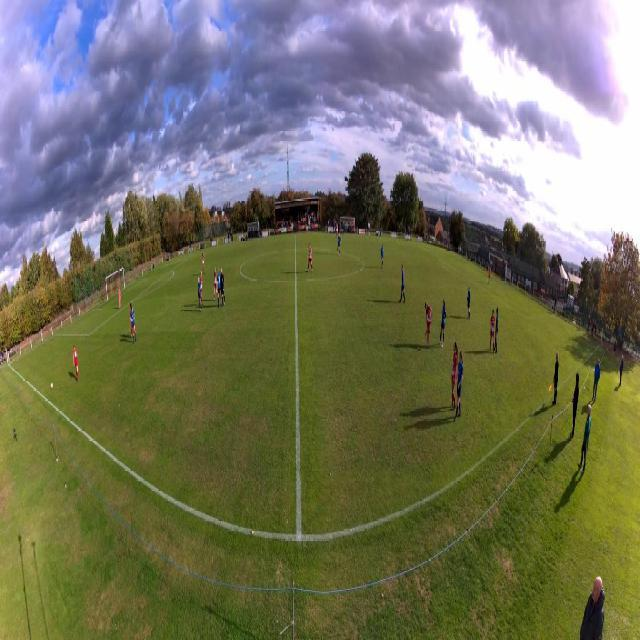ball: (51, 383, 53, 389)
player: (453, 351, 463, 422), (451, 339, 458, 410), (438, 298, 447, 348), (424, 302, 432, 349), (398, 264, 406, 304), (490, 308, 496, 354), (305, 243, 313, 274), (494, 307, 499, 354), (131, 305, 137, 344), (73, 344, 79, 383), (130, 303, 136, 339), (220, 268, 225, 308), (213, 266, 218, 303), (217, 268, 221, 309), (200, 270, 204, 307), (467, 283, 471, 320), (198, 276, 202, 313), (337, 232, 342, 256), (381, 243, 385, 270), (488, 267, 492, 286), (202, 253, 205, 274), (119, 288, 122, 309), (336, 222, 339, 238)
